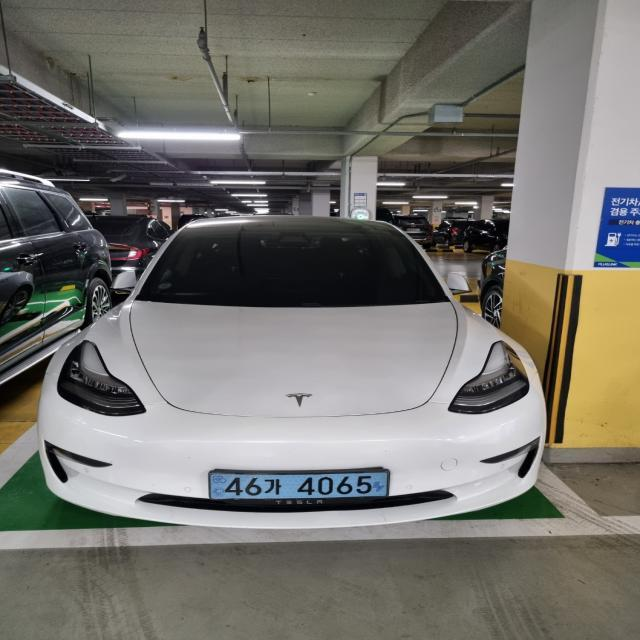car: (194, 459, 416, 515)
carev: (203, 472, 227, 504), (371, 470, 391, 503)
